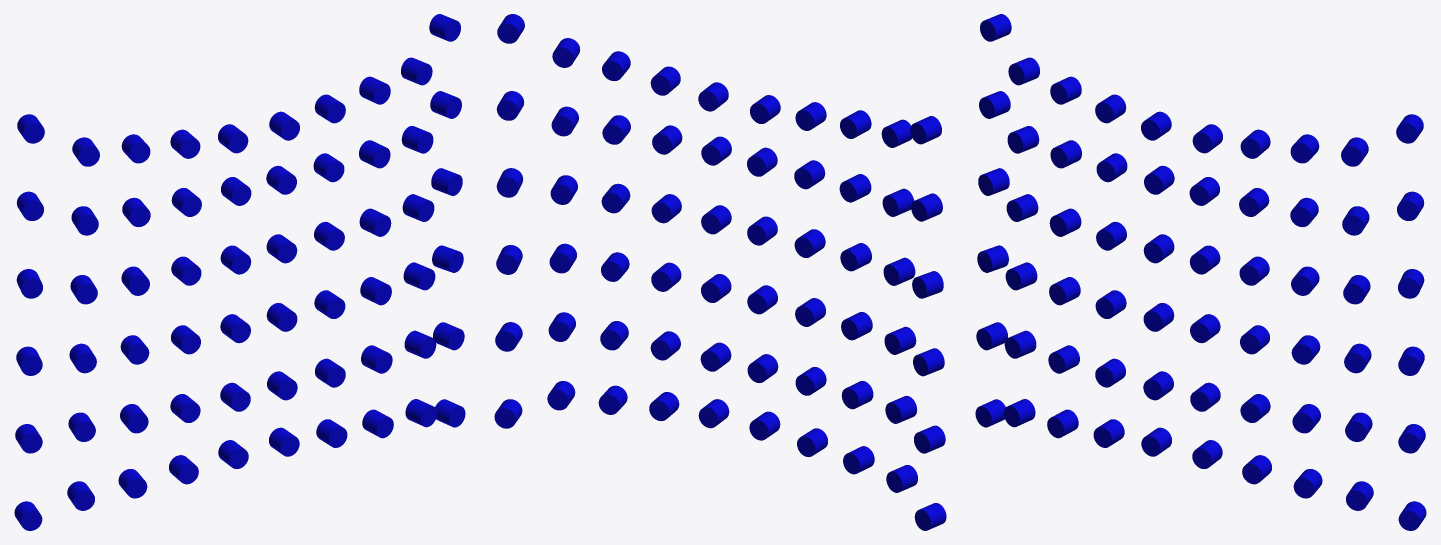
Rendered from left_index_tactile_link_1.obj.
3 views of the same model, side by side, from view 1: azimuth 30°, elevation 25°; view 2: azimuth 150°, elevation 25°; view 3: azimuth 330°, elevation 25° (orthographic).
Size of the model in its own units: 0.0229 by 0.02 by 0.00297.
